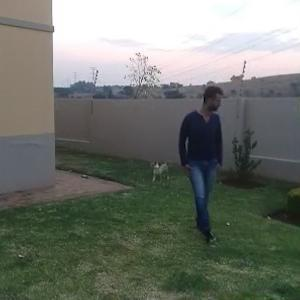follow: (174, 77, 217, 229)
